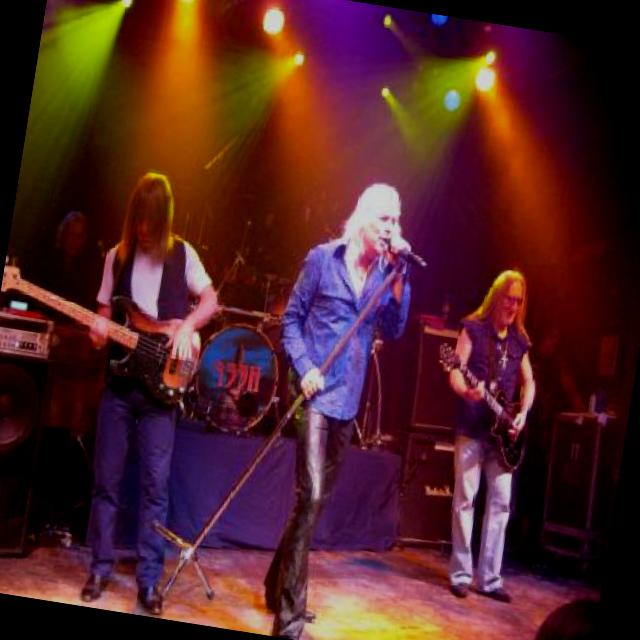Person: (230, 169, 434, 640), (44, 166, 241, 615), (413, 254, 566, 604), (503, 312, 602, 538), (24, 203, 110, 334), (529, 589, 600, 640)
